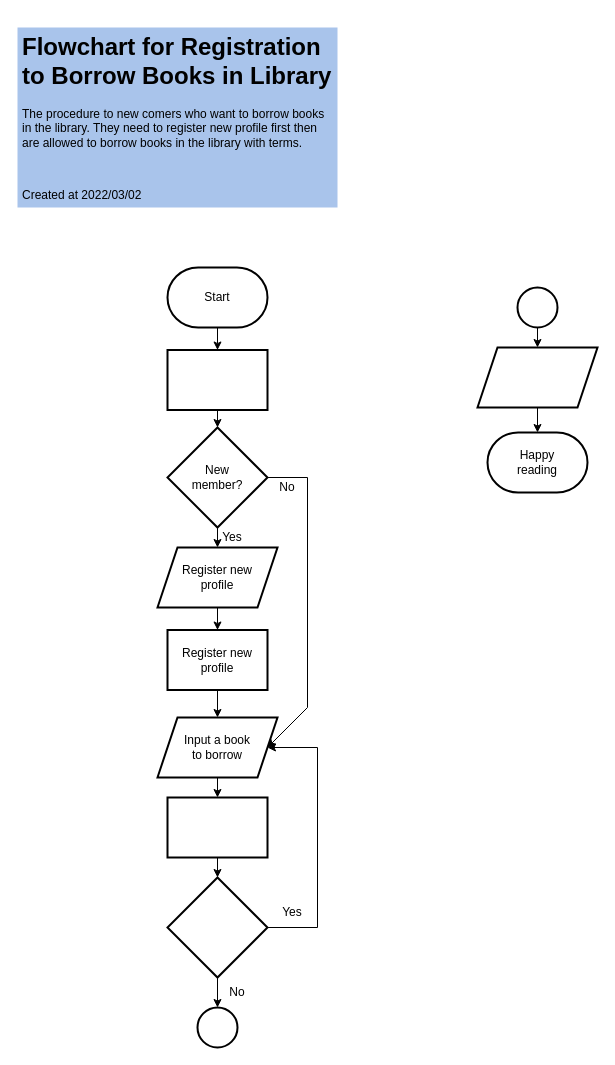
Image size: 615x1065. Some labels were removed from this diagram. The shapes that lost their labels are listed below. From the top down, each one's box as (x1, y1, x2, y2) in pixels, then its label:
(166, 348, 268, 410): Borrow books
(476, 346, 598, 408): Output receive card member with terms
(166, 796, 268, 858): Record book to the Librarian
(166, 876, 268, 978): One more book to borrow?
